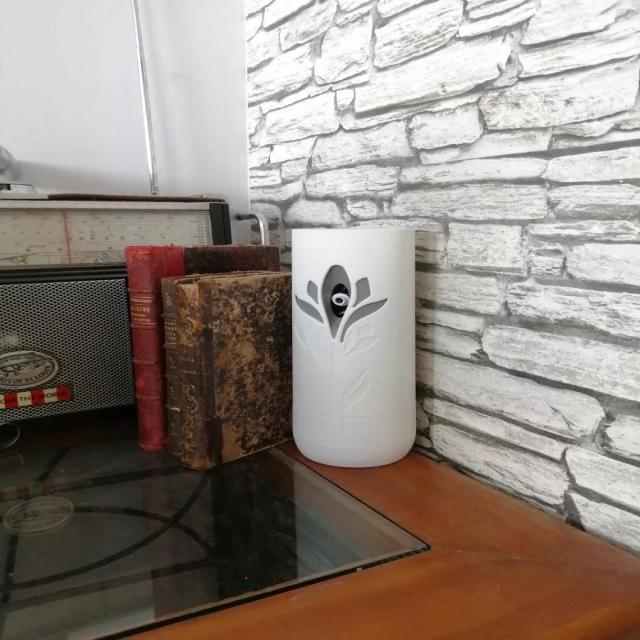hidden camera: (333, 296, 345, 305)
